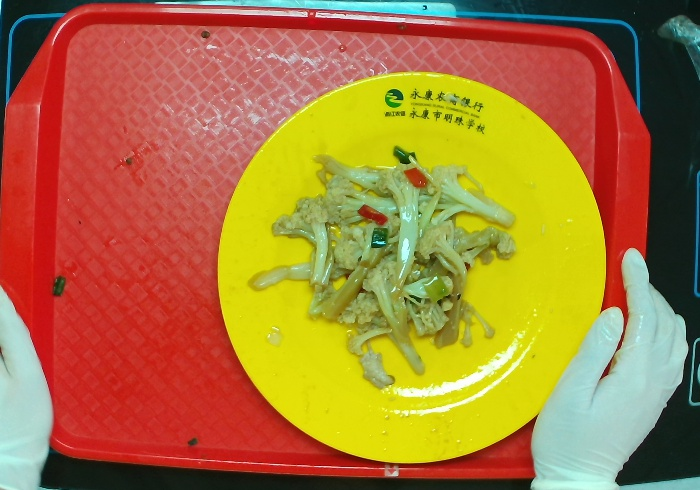YKMZ-Huang_Se_Mian_Pan: (216, 70, 608, 465)
